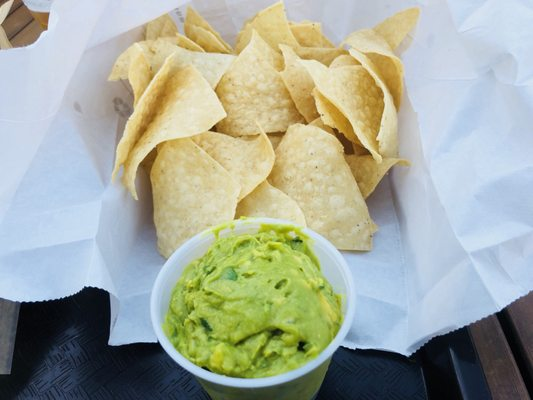sushi: (150, 219, 358, 400)
